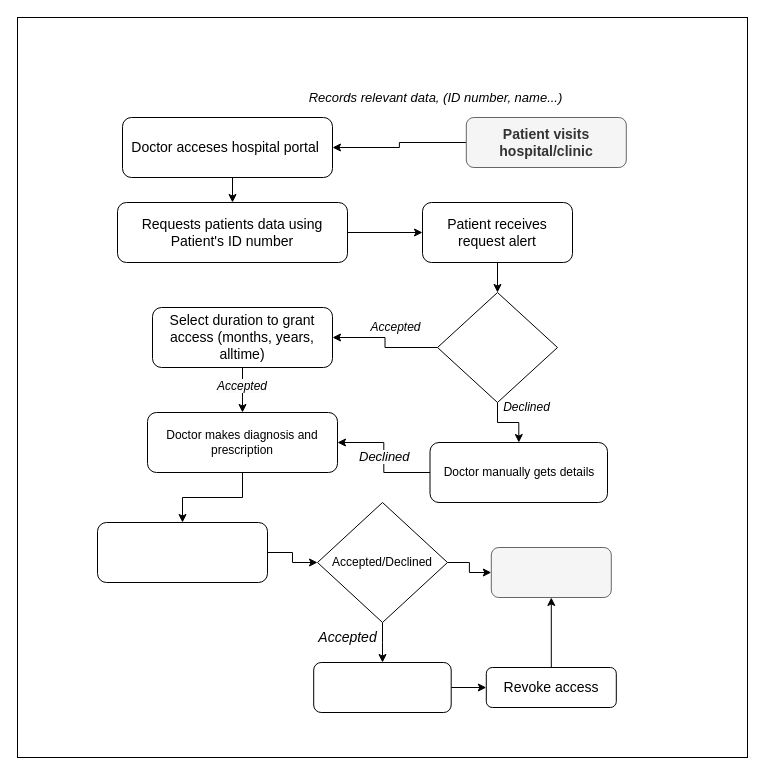
Some shapes in this 765 by 775 pixel diagram are drawn without their labels. The centre of each missing label's shape, as x and y in pixels:
"Accept/Decline" belongs at point (497, 347).
"END" belongs at point (550, 572).
"Save copy to service" belongs at point (382, 687).
"Save data in hospital system" belongs at point (182, 552).
